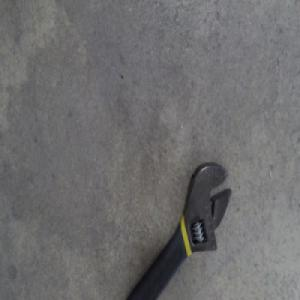AdjustableWrench: (123, 162, 232, 299)
